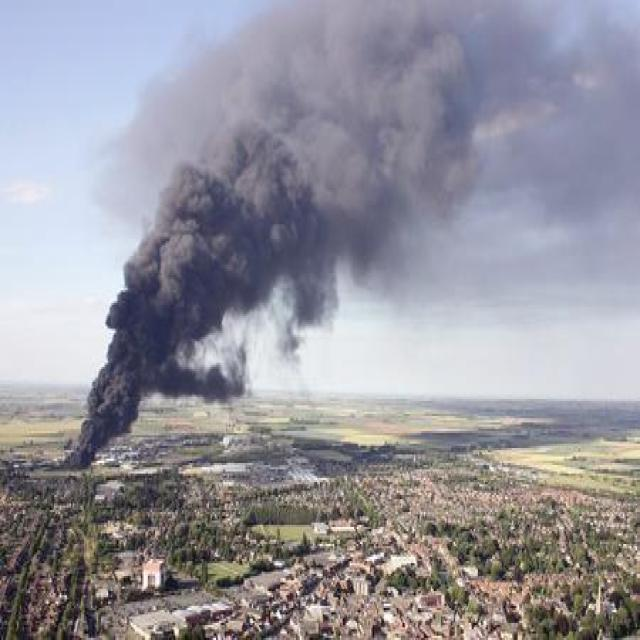smoke: (71, 0, 639, 463)
